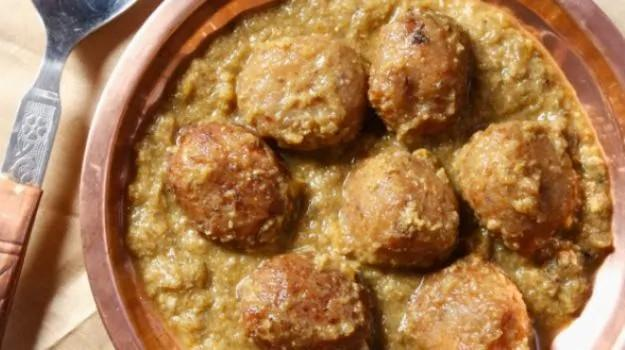DumAloo: (124, 0, 615, 350)
